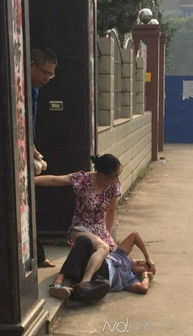fall: (43, 229, 154, 312)
